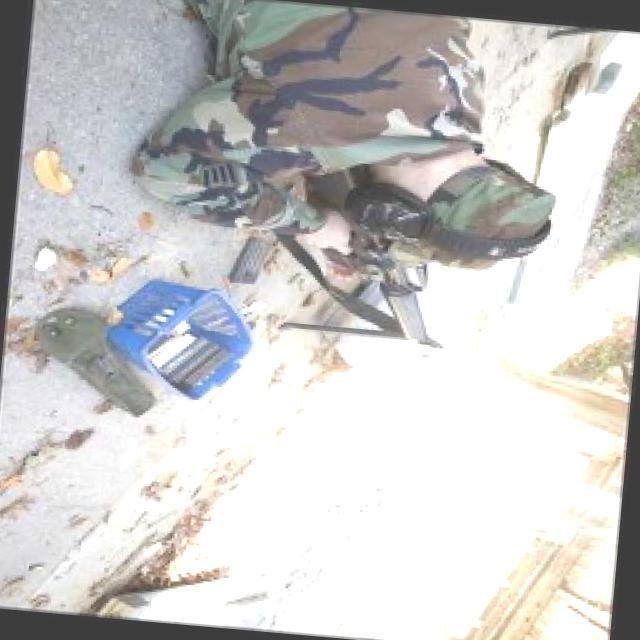long weapon: (275, 234, 450, 384)
